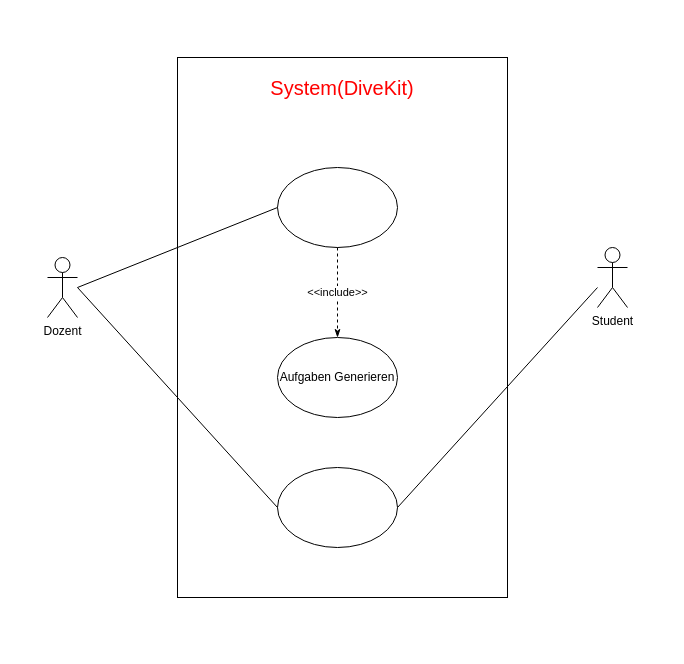
This 684x664 diagram has some shape labels left out. The box of each missing label's shape, as (x1, y1, x2, y2) in pixels:
Aufgabenmuster einpflegen: (276, 166, 398, 248)
Generierte Aufgaben den Studenten stellen: (276, 466, 398, 548)
